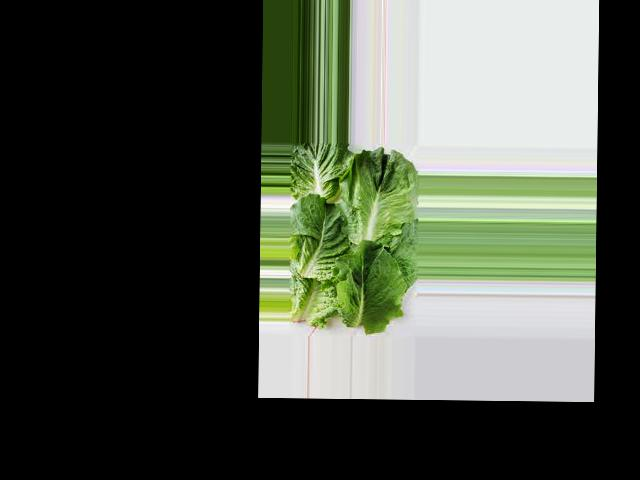lettuce: (227, 149, 295, 271)
